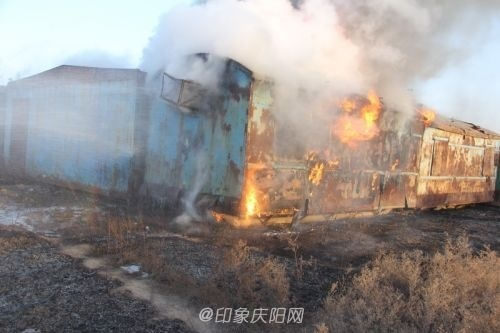fire: (233, 85, 381, 221), (335, 90, 382, 143), (417, 105, 437, 126)
